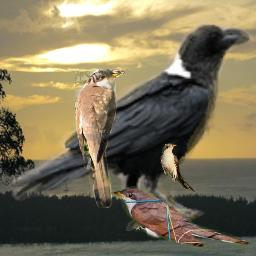Crow: (8, 16, 256, 231)
Cuckoo: (109, 184, 253, 254), (75, 69, 125, 208), (160, 143, 195, 194)
